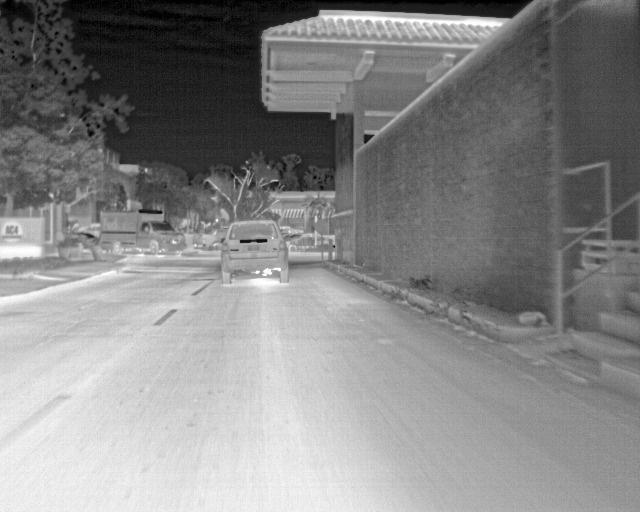car: (222, 217, 289, 285), (192, 230, 221, 249), (289, 234, 315, 253), (77, 232, 98, 246), (83, 223, 98, 236)
